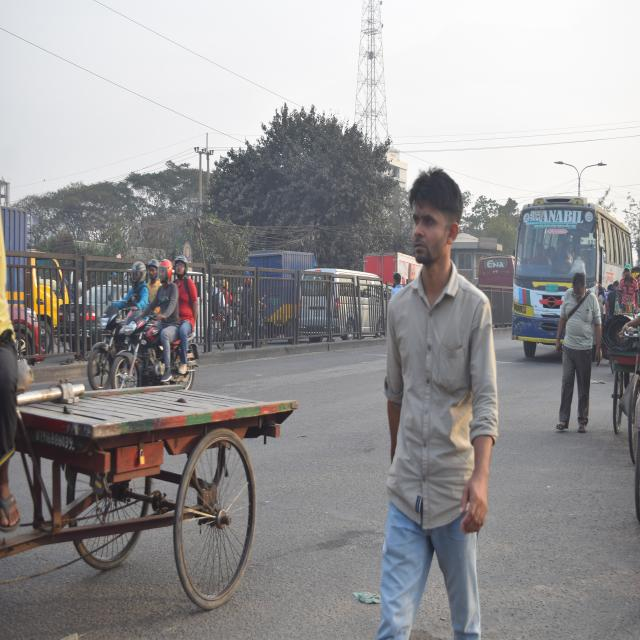bus: (506, 189, 636, 371)
microbus: (298, 265, 383, 343)
motorbike: (112, 302, 201, 395)
pickup-van: (0, 188, 76, 350)
